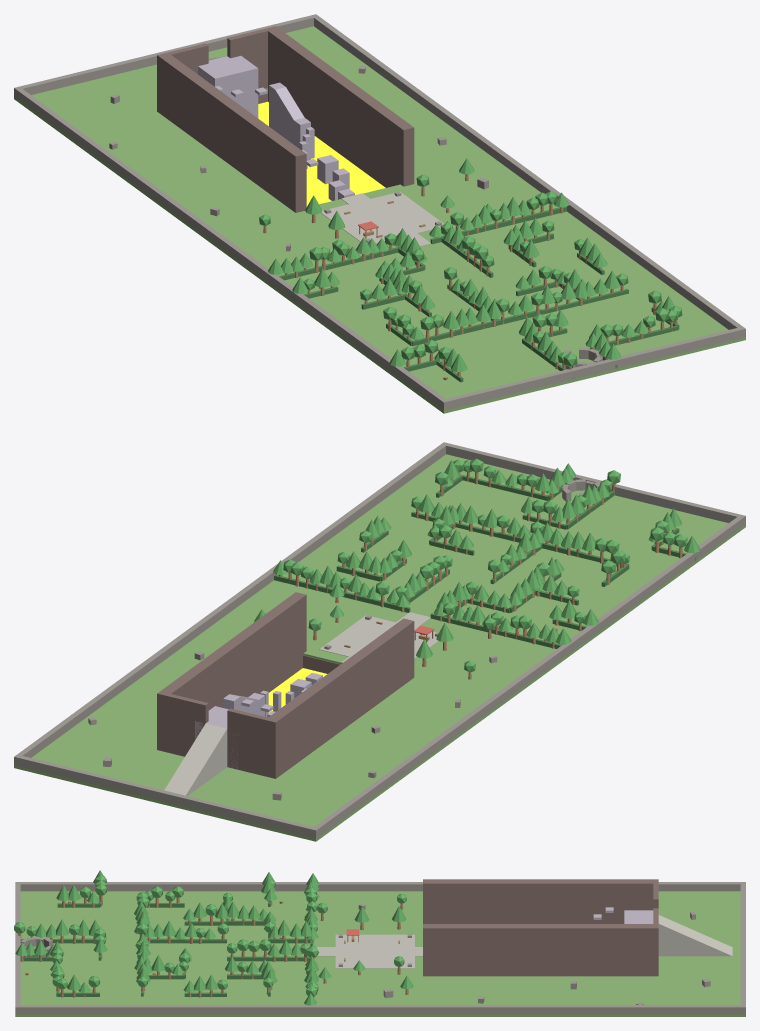
File: world.glb
The picture shows the model from 3 angles, top to bottom: view 1: azimuth 30°, elevation 25°; view 2: azimuth 150°, elevation 25°; view 3: azimuth 270°, elevation 25°; orthographic projection. The views are drawn at different scales.
Parts seen in each view (by area): view 1: Ground-col, Pit_Wall_E-col, Pit_Wall_W-col, Perimeter_W-col, Perimeter_E-col, Forest_Edge_Trees-col, Perimeter_S-col, Plaza_Paving-col, Perimeter_N-col, Summit-col, Lava, Pit_Wall_N2-col (+9 smaller); view 2: Ground-col, Pit_Wall_W-col, Pit_Wall_E-col, Perimeter_W-col, Perimeter_E-col, Forest_Edge_Trees-col, Perimeter_N-col, Perimeter_S-col, Exit_Ramp-col, Pit_Wall_N1-col, Pit_Wall_N2-col, Plaza_Paving-col (+10 smaller); view 3: Ground-col, Pit_Wall_E-col, Pit_Wall_W-col, Perimeter_E-col, Perimeter_W-col, Plaza_Paving-col, Exit_Ramp-col, Forest_Edge_Trees-col, Plaza_Trees-col, Perimeter_N-col, Perimeter_S-col, Trees_r5c2_E-col (+22 smaller).
Boxes of the visible parts, bbox=[...] form: Ground-col: bbox=[14, 26, 745, 413]; Pit_Wall_E-col: bbox=[265, 26, 414, 187]; Pit_Wall_W-col: bbox=[157, 52, 306, 212]; Perimeter_W-col: bbox=[14, 86, 449, 410]; Perimeter_E-col: bbox=[311, 14, 745, 338]; Forest_Edge_Trees-col: bbox=[268, 191, 569, 278]; Perimeter_S-col: bbox=[446, 328, 740, 409]; Plaza_Paving-col: bbox=[321, 192, 443, 243]; Perimeter_N-col: bbox=[19, 15, 313, 94]; Summit-col: bbox=[198, 56, 258, 118]; Lava: bbox=[258, 101, 385, 206]; Pit_Wall_N2-col: bbox=[227, 29, 267, 103]; Ground-col: bbox=[14, 454, 745, 841]; Pit_Wall_W-col: bbox=[265, 618, 414, 778]; Pit_Wall_E-col: bbox=[157, 592, 306, 752]; Perimeter_W-col: bbox=[310, 514, 745, 838]; Perimeter_E-col: bbox=[14, 442, 448, 766]; Forest_Edge_Trees-col: bbox=[273, 559, 571, 648]; Perimeter_N-col: bbox=[19, 756, 313, 837]; Perimeter_S-col: bbox=[446, 443, 740, 522]; Exit_Ramp-col: bbox=[164, 723, 227, 795]; Pit_Wall_N1-col: bbox=[227, 708, 267, 776]; Pit_Wall_N2-col: bbox=[168, 694, 208, 756]; Plaza_Paving-col: bbox=[319, 615, 438, 658]; Ground-col: bbox=[15, 891, 745, 1016]; Pit_Wall_E-col: bbox=[423, 924, 658, 976]; Pit_Wall_W-col: bbox=[423, 879, 658, 923]; Perimeter_E-col: bbox=[15, 1005, 745, 1014]; Perimeter_W-col: bbox=[15, 882, 745, 891]; Plaza_Paving-col: bbox=[335, 934, 414, 968]; Exit_Ramp-col: bbox=[658, 915, 732, 956]; Forest_Edge_Trees-col: bbox=[304, 873, 319, 1005]; Plaza_Trees-col: bbox=[317, 893, 413, 994]; Perimeter_N-col: bbox=[740, 884, 745, 1004]; Perimeter_S-col: bbox=[15, 884, 20, 1004]; Trees_r5c2_E-col: bbox=[56, 919, 99, 943].
Bounding box in the file's own units: 113 × 27 × 276.
